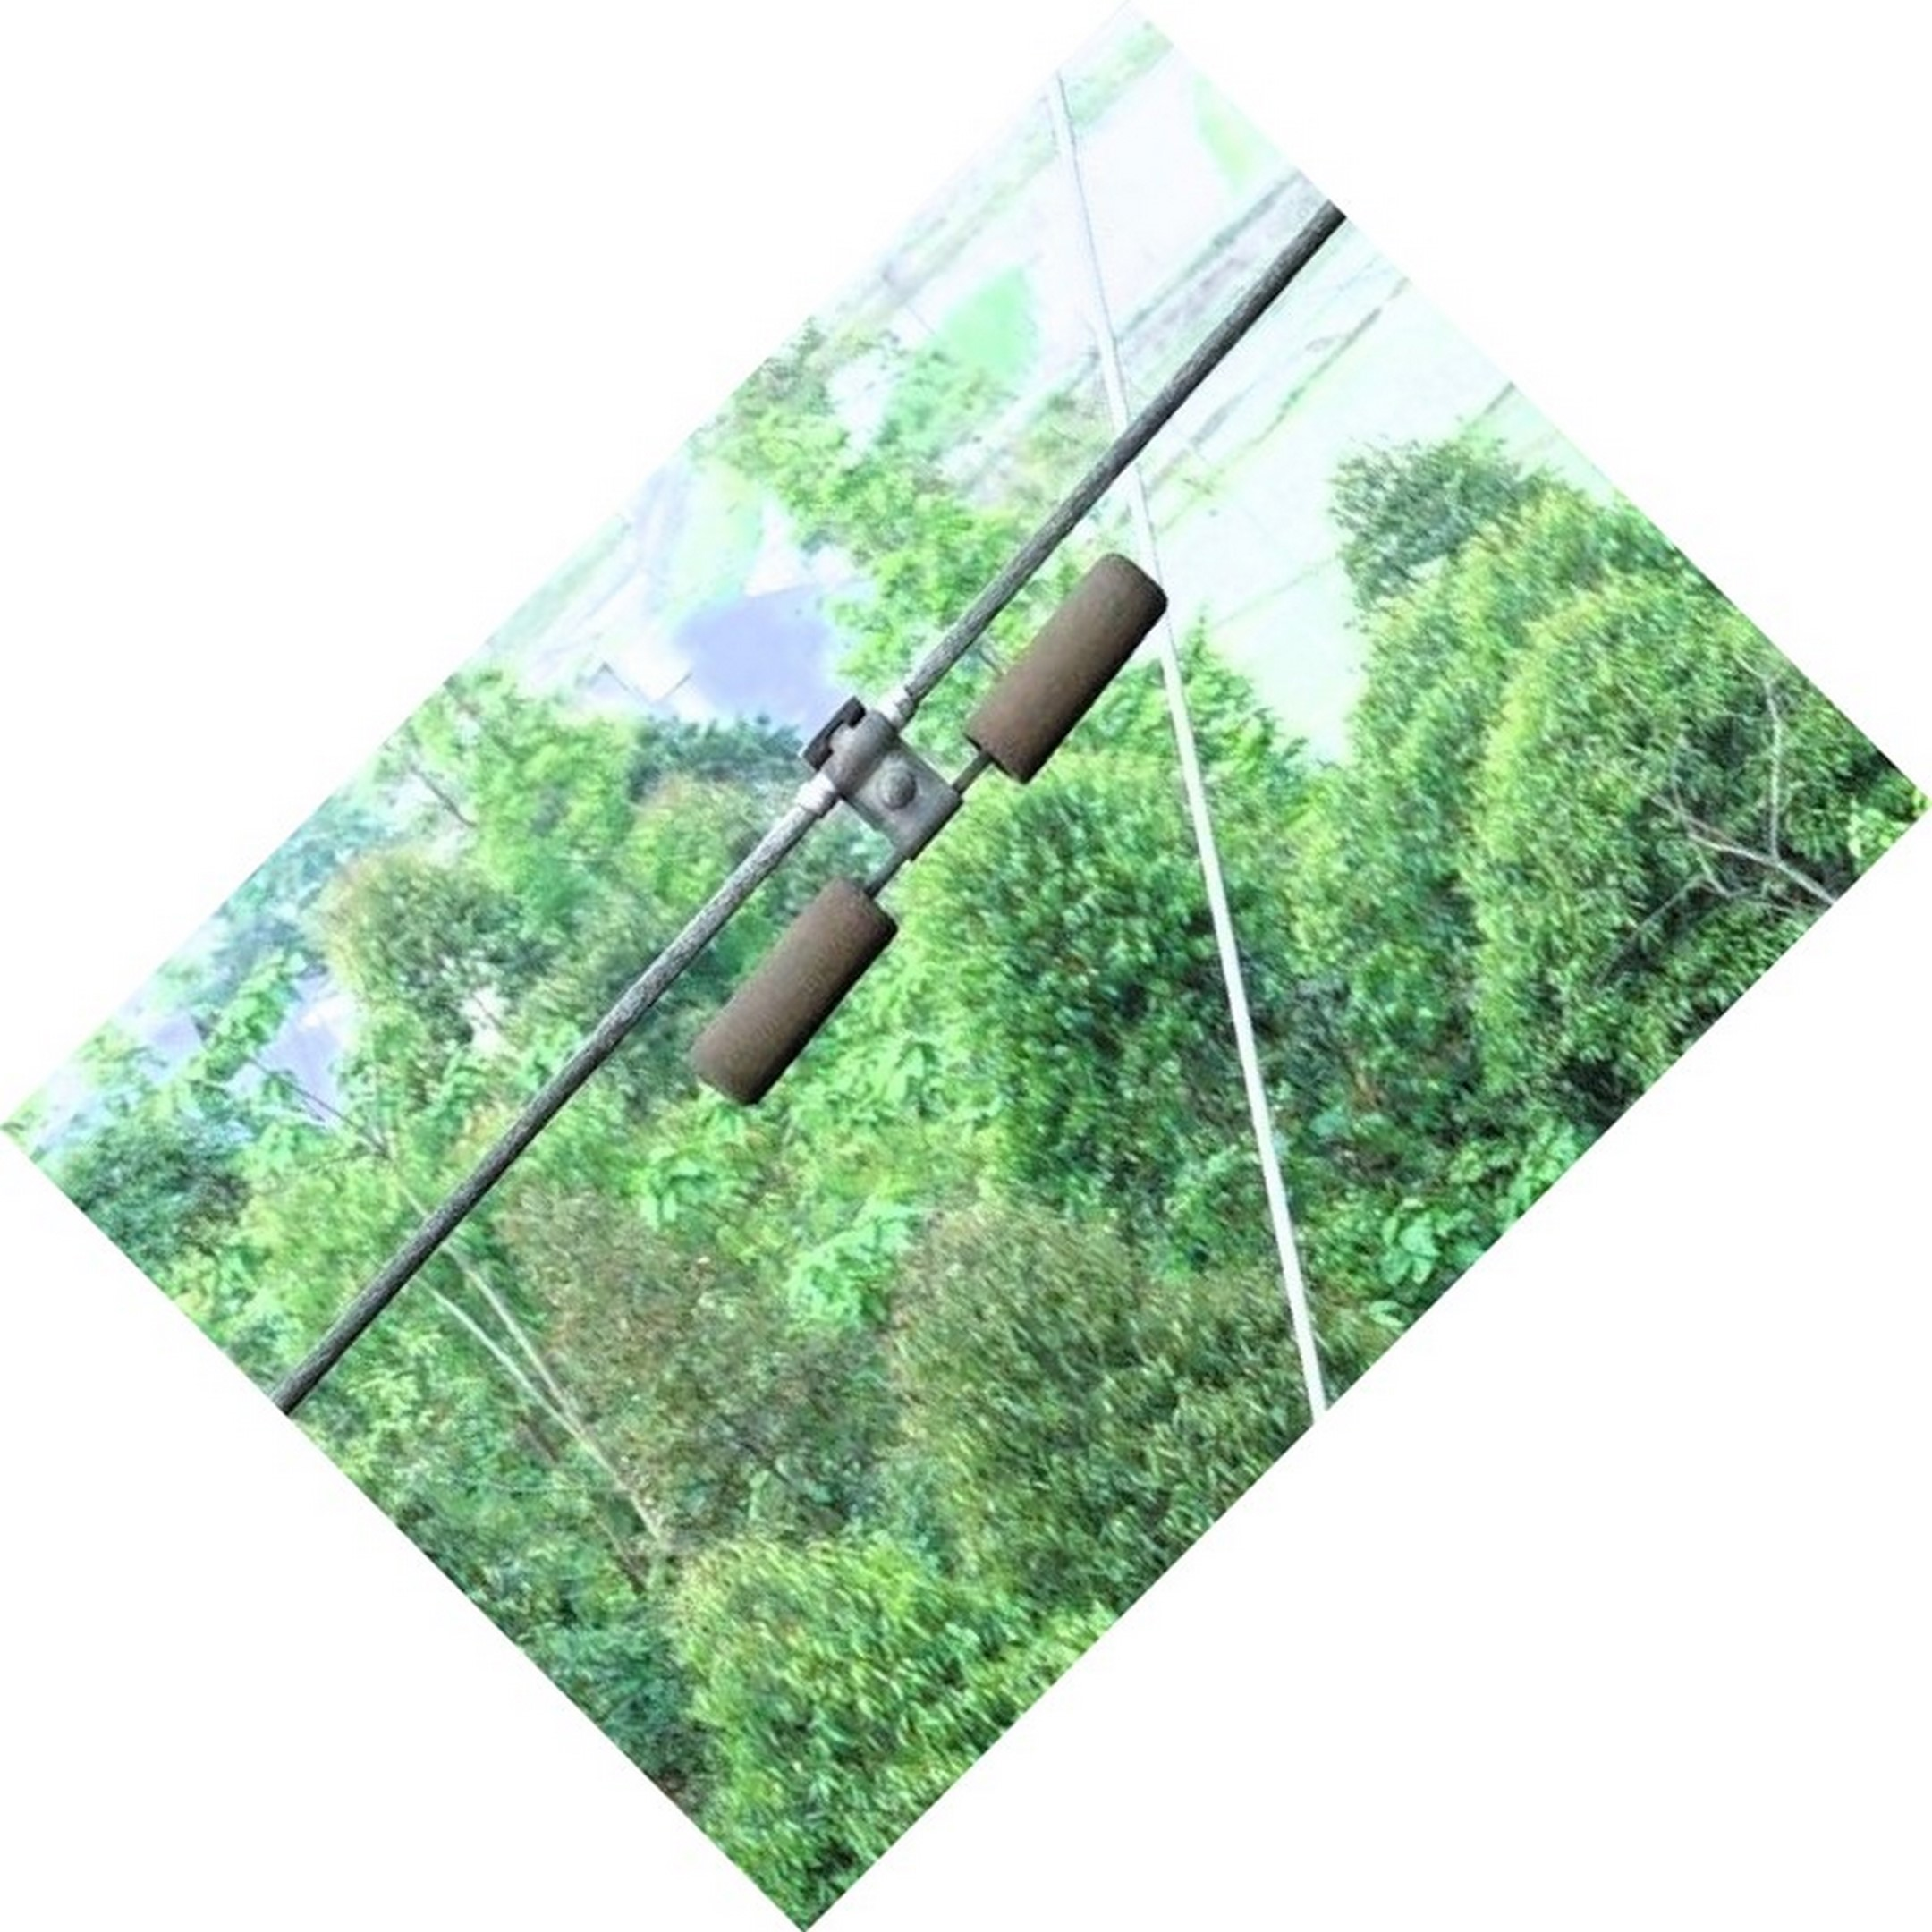Shockproof hammer: (619, 531, 1185, 1131)
